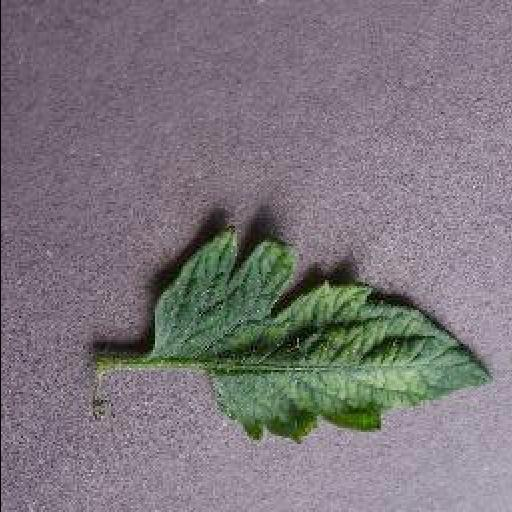Mosaic Virus: (150, 227, 498, 441)
